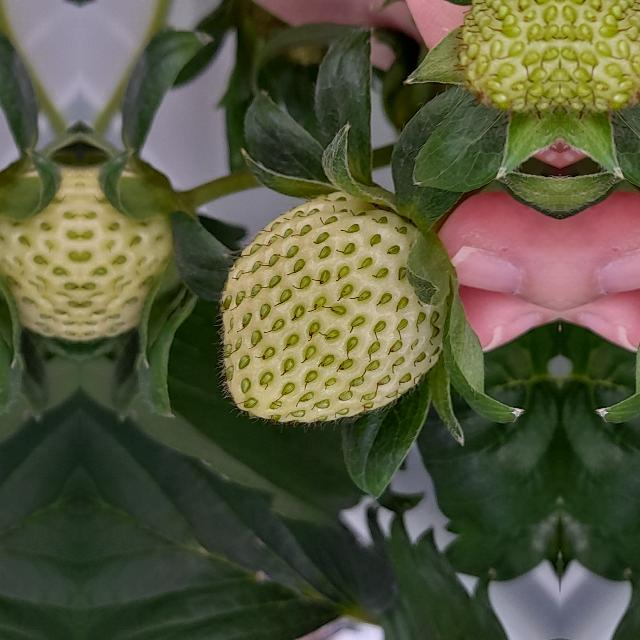Health_25: (212, 190, 448, 432), (80, 145, 172, 355), (0, 145, 80, 355), (456, 0, 560, 116), (560, 0, 640, 116)
